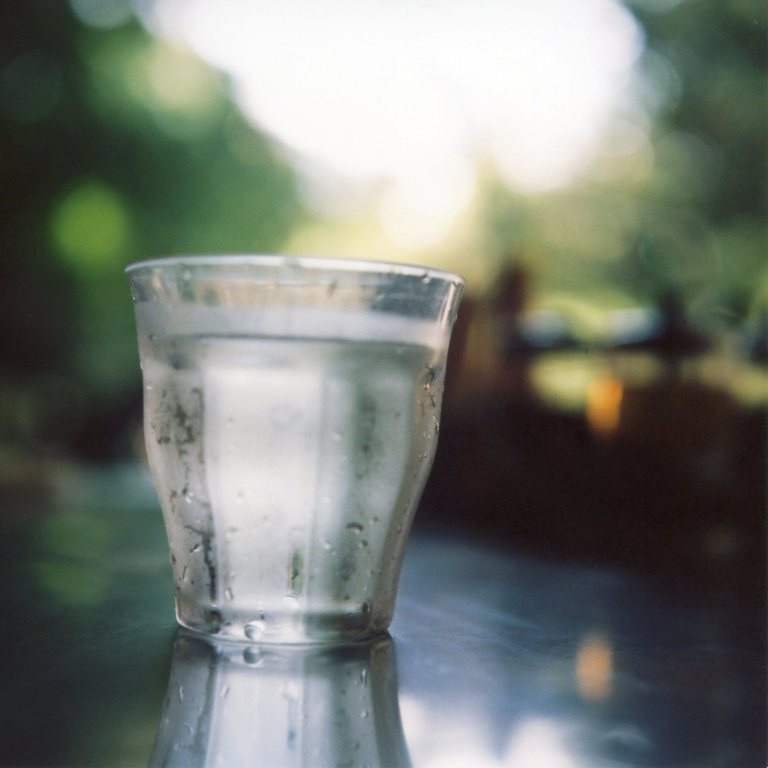glass of water: (118, 247, 459, 662)
